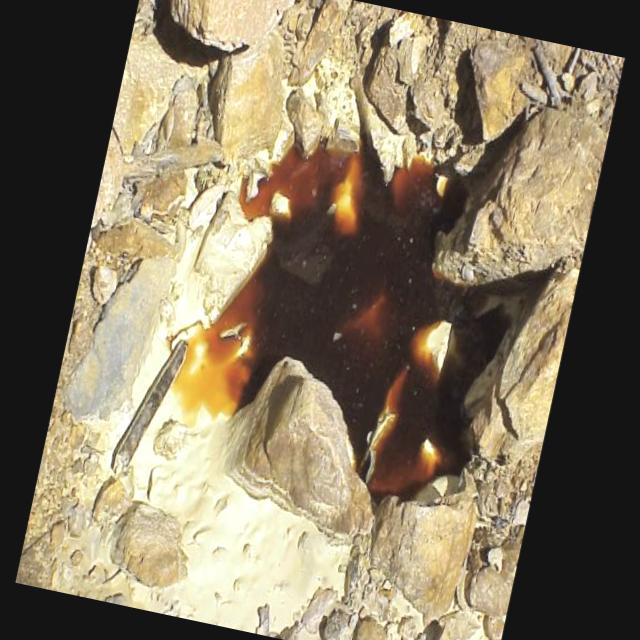yellow_boy: (173, 147, 507, 496)
